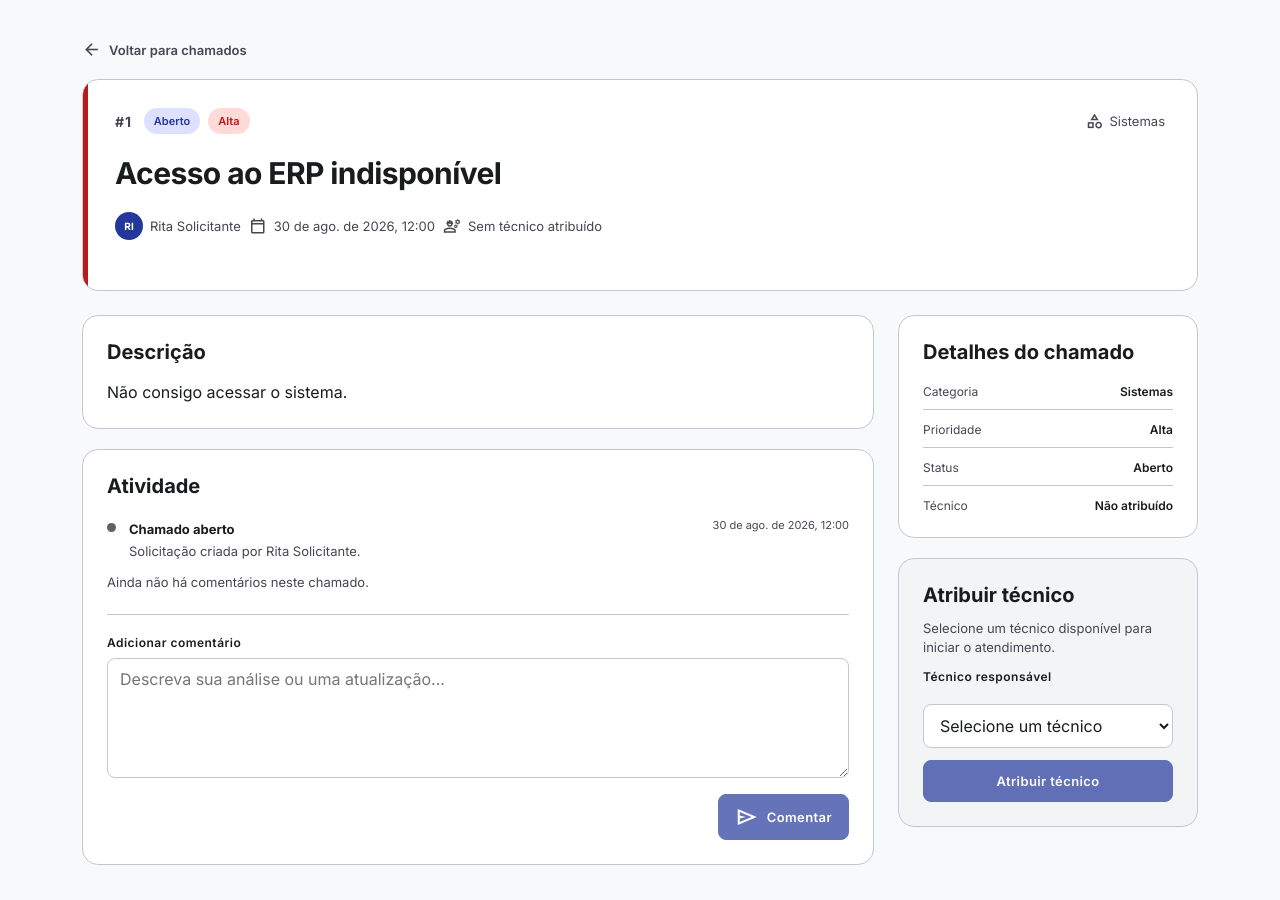
Test: TicketDetailsView › permite que um administrador atribua um técnico
The width and height of the screenshot is (1280, 900).
Select "Téo Técnico" in the dropdown with id "technician" at (1048, 726), box [923,704,1173,748]
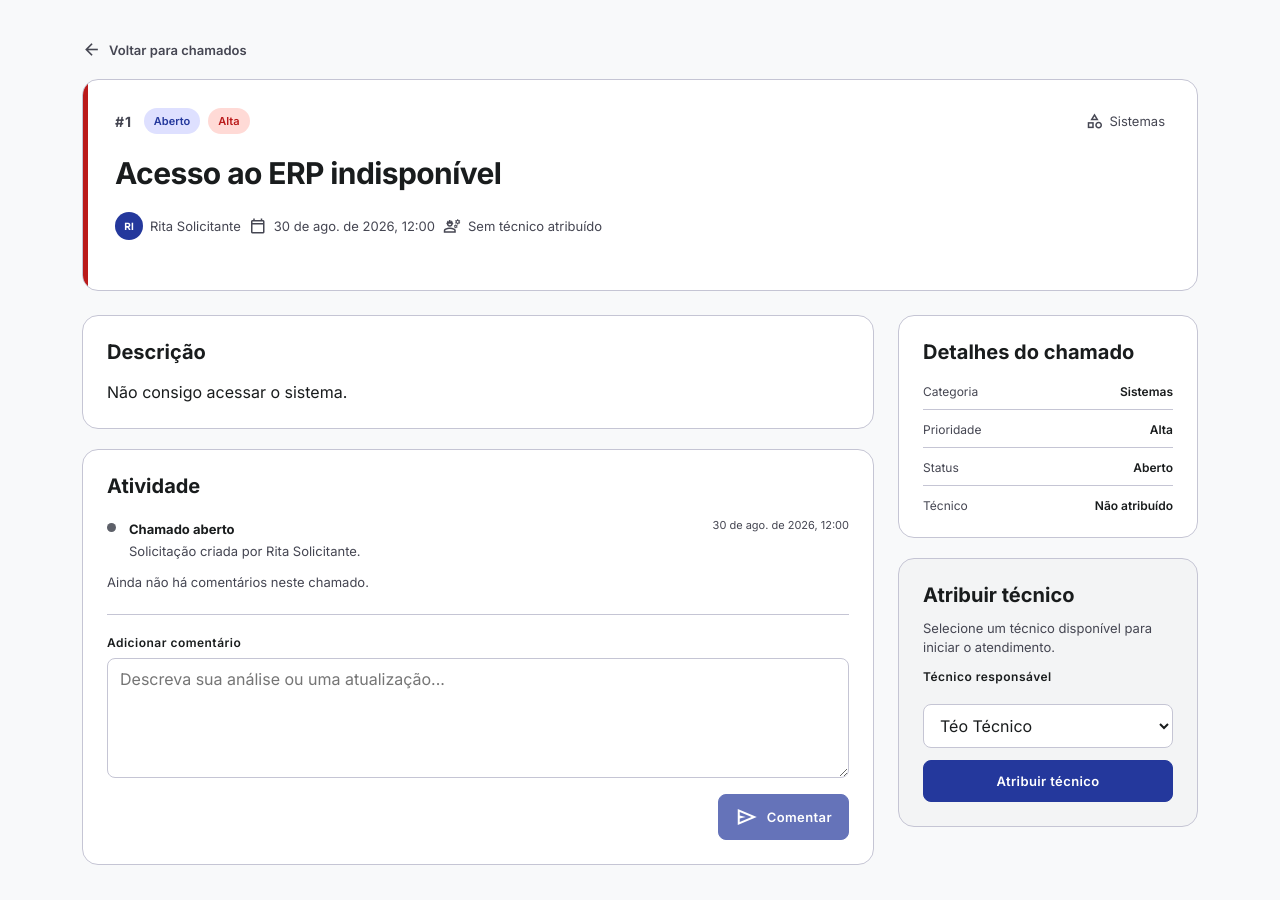
Click the button "Atribuir técnico" at (1048, 781), box [923,760,1173,802]
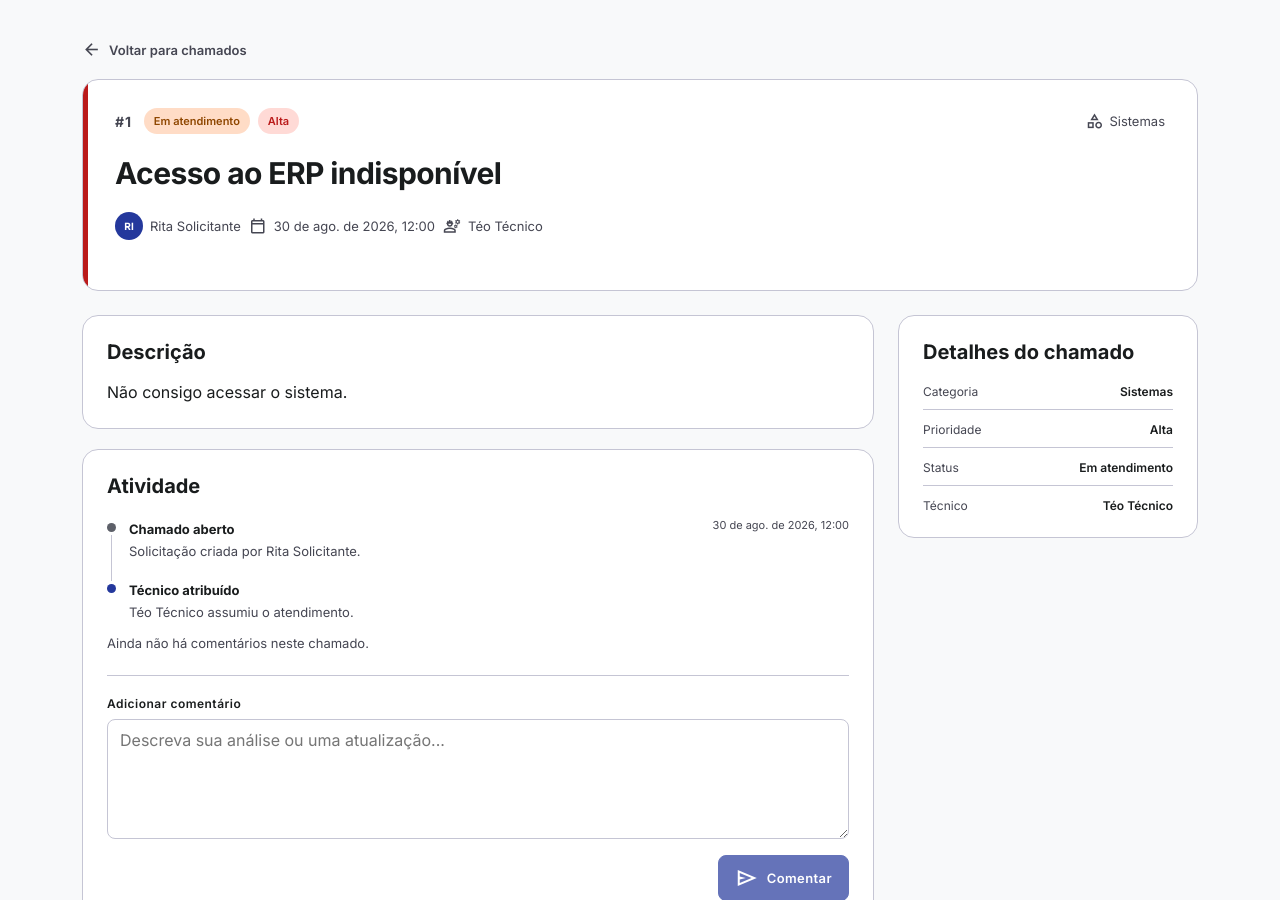
Expected: the text "Téo Técnico" is shown, [443,217,543,235]
Expected: the text "Em atendimento" is shown, [144,108,250,134]
